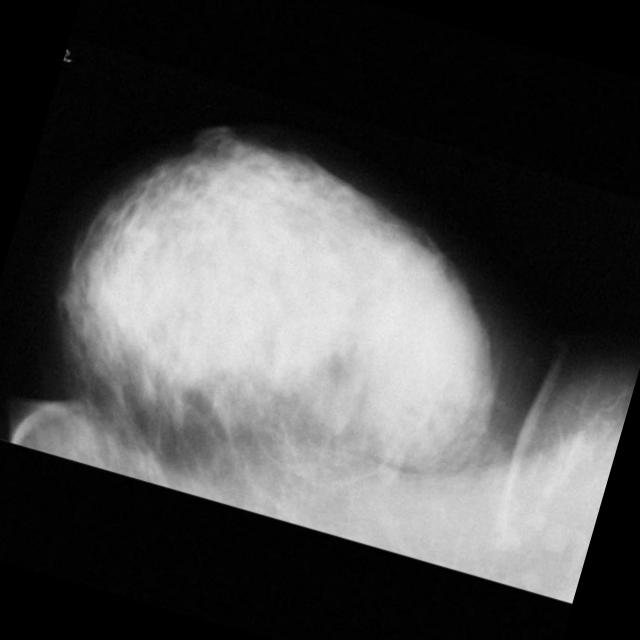CALC: (386, 241, 422, 276)
